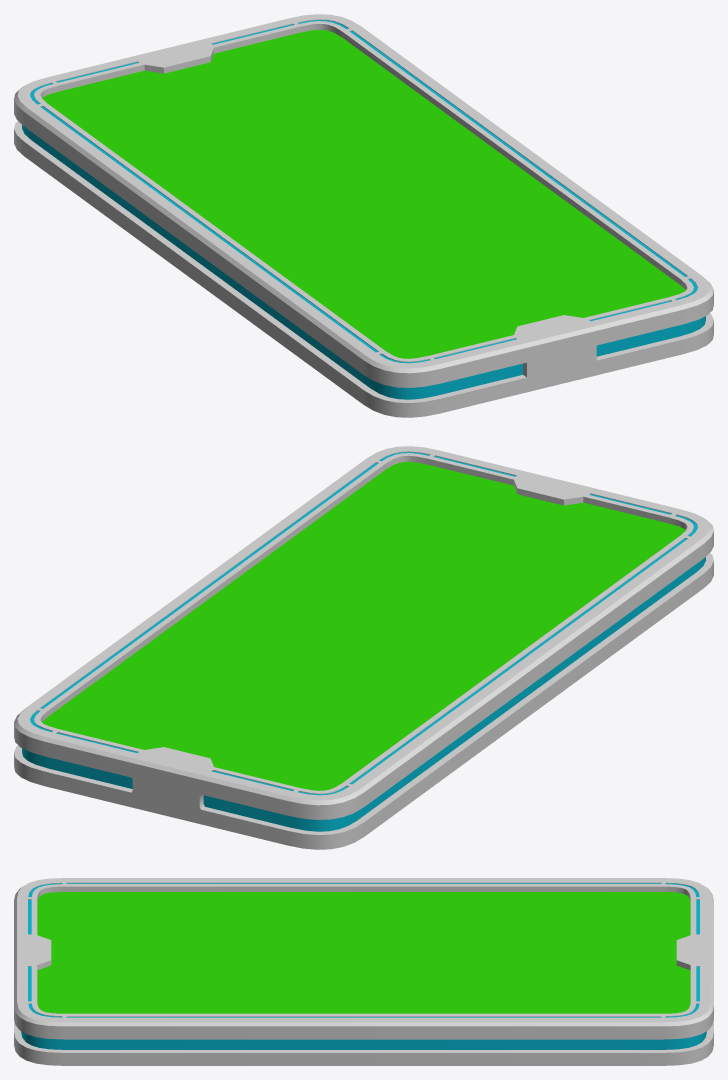
File: speed1Big.fbx
3 renders of one model, top to bottom at view 1: azimuth 30°, elevation 25°; view 2: azimuth 150°, elevation 25°; view 3: azimuth 270°, elevation 25°, orthographic. The views are drawn at different scales.
Visible parts, largest first — view 1: speed1Big; view 2: speed1Big; view 3: speed1Big.
Boxes of the visible parts, left/top/right/bottom form: speed1Big: left=14, top=14, right=713, bottom=417; speed1Big: left=14, top=446, right=713, bottom=849; speed1Big: left=14, top=878, right=713, bottom=1065.
Size of the model in its own units: 0.9888 by 0.1328 by 1.99.
